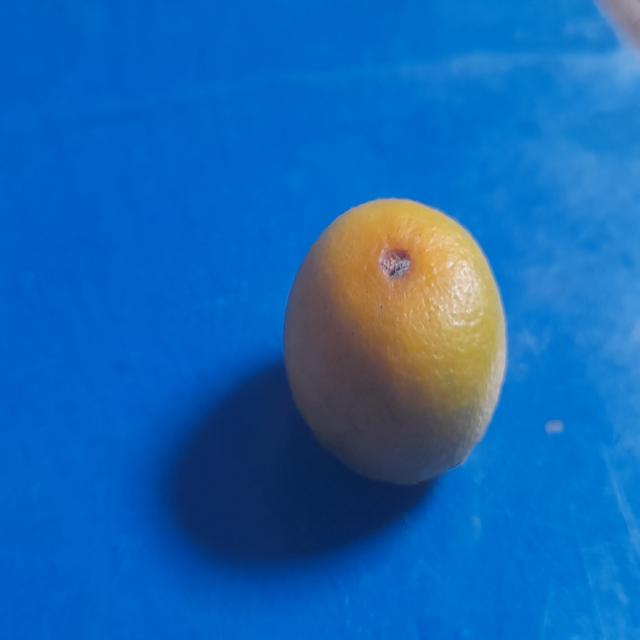greening: (280, 188, 516, 491)
